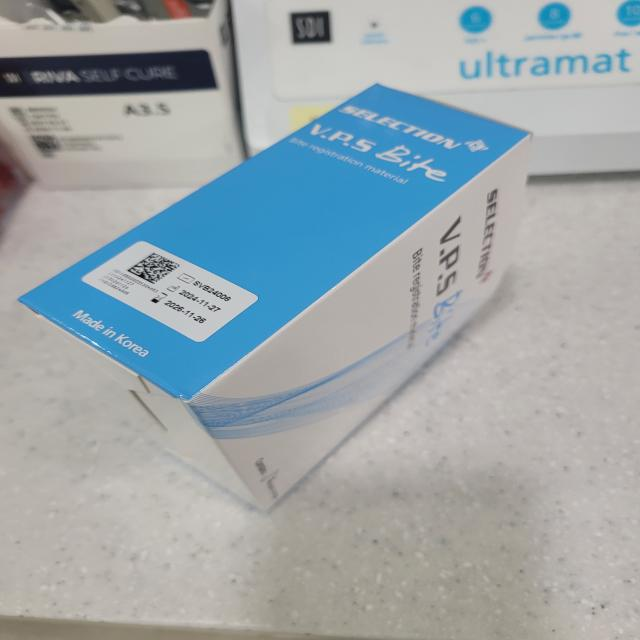impression: (17, 80, 563, 510)
